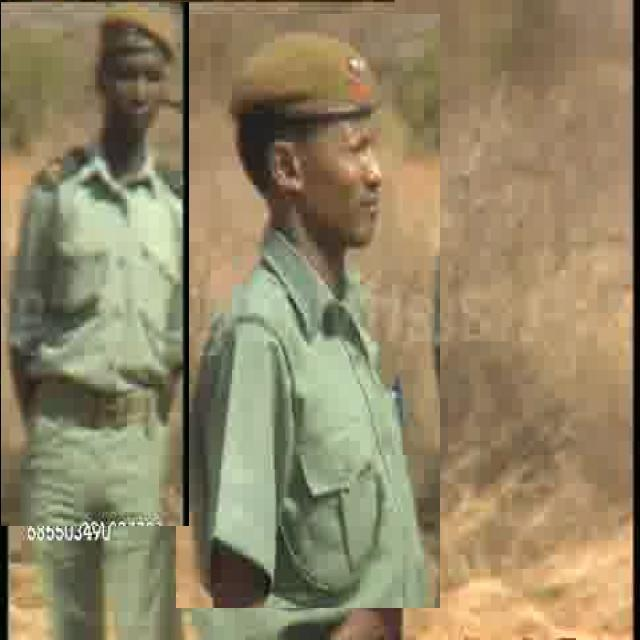poacher: (176, 14, 440, 608), (2, 2, 190, 526)
